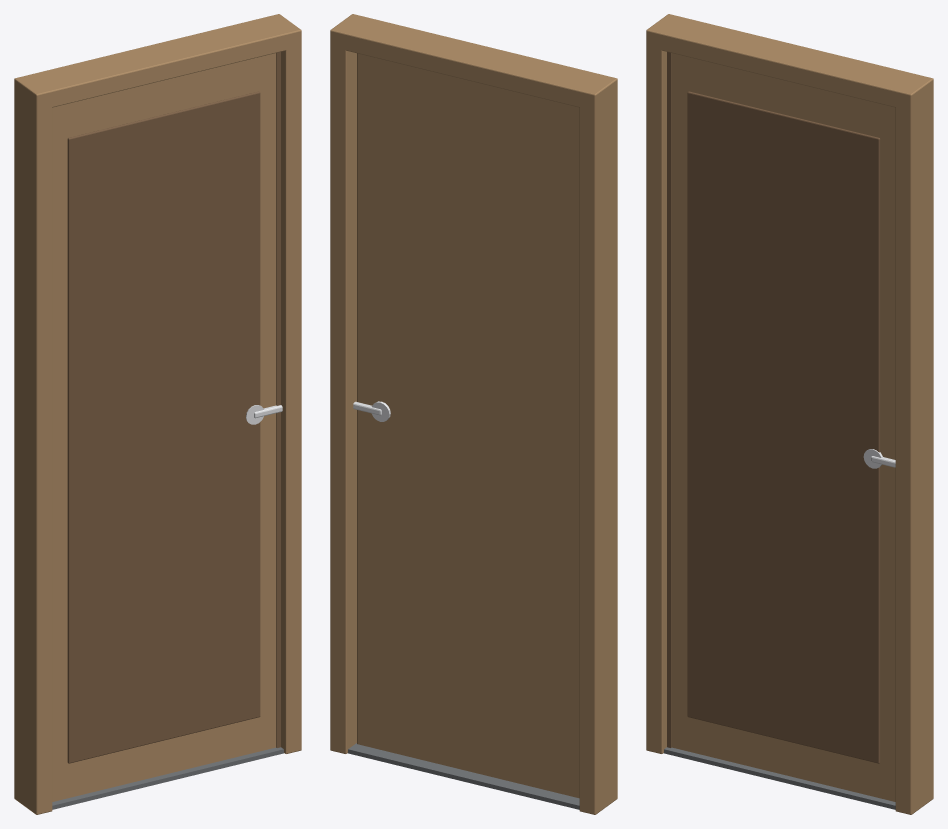
The model's file is door-single-flush-810.glb.
3 views of the same model, side by side, from view 1: azimuth 30°, elevation 25°; view 2: azimuth 150°, elevation 25°; view 3: azimuth 330°, elevation 25° (orthographic).
Parts seen in each view (by area): view 1: LeafPanel.001, Leaf.001, JambL.001, JambR.001, Head.001, StopR.001, Threshold.001; view 2: Leaf.001, JambL.001, JambR.001, Head.001, Threshold.001; view 3: LeafPanel.001, Leaf.001, JambR.001, JambL.001, Head.001, StopL.001, Threshold.001.
Boxes of the visible parts, x1,y1,x2,y2 form: LeafPanel.001: (67, 91, 260, 763); Leaf.001: (52, 53, 276, 801); JambL.001: (14, 82, 52, 814); JambR.001: (281, 32, 301, 753); Head.001: (14, 14, 301, 110); StopR.001: (276, 52, 280, 747); Threshold.001: (52, 747, 283, 809); Leaf.001: (357, 53, 579, 798); JambL.001: (579, 81, 617, 814); JambR.001: (330, 31, 356, 753); Head.001: (330, 14, 617, 110); Threshold.001: (348, 743, 579, 809); LeafPanel.001: (687, 91, 880, 763); Leaf.001: (671, 53, 895, 801); JambR.001: (895, 81, 933, 814); JambL.001: (646, 31, 666, 753); Head.001: (646, 14, 933, 110); StopL.001: (667, 52, 671, 747); Threshold.001: (664, 747, 895, 809).
Size of the model in its own units: 0.81 by 2.1 by 0.12.
